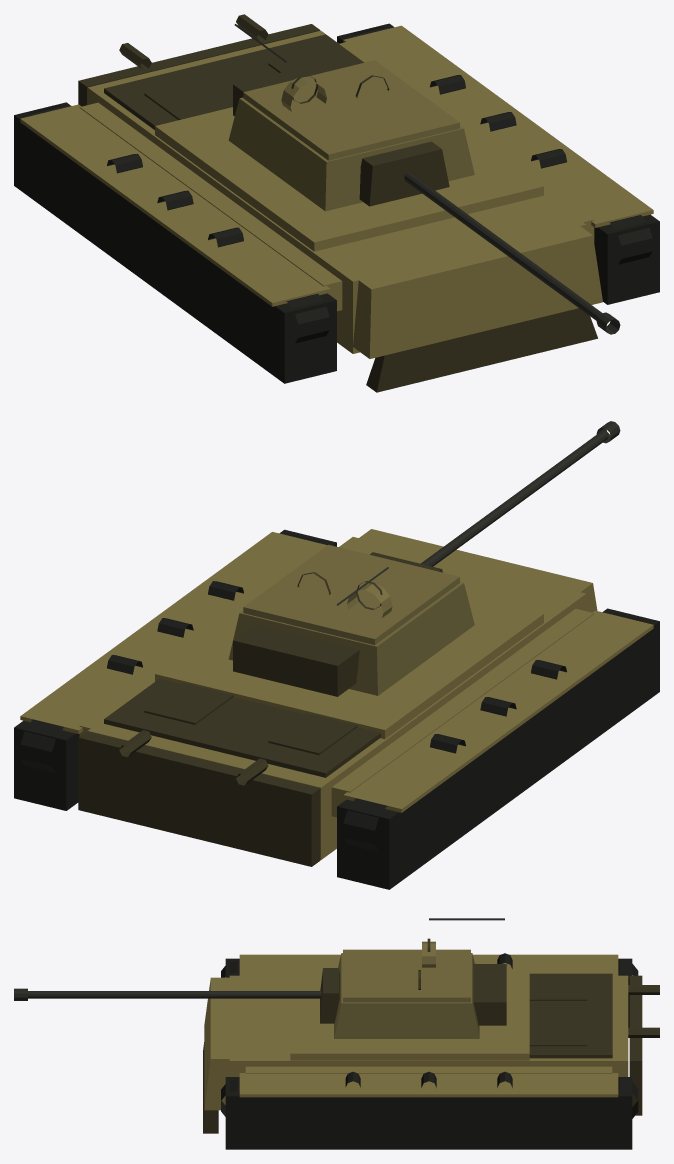
The model's file is tiger1.obj.
3 renders of one model, top to bottom at view 1: azimuth 30°, elevation 25°; view 2: azimuth 150°, elevation 25°; view 3: azimuth 270°, elevation 25°, orthographic. The views are drawn at different scales.
Parts seen in each view (by area): view 1: track_l, glacis, hull_deck, hull_lower, fender_l, fender_r, turret_roof, turret_base, lower_glacis, engine_deck, sponson_left, track_r (+10 smaller); view 2: track_l, rear_plate, hull_deck, fender_l, fender_r, turret_roof, hull_lower, engine_deck, turret_base, turret_rear, sponson_left, track_r (+7 smaller); view 3: track_r, hull_lower, hull_deck, fender_r, turret_roof, turret_base, engine_deck, fender_l, glacis, sponson_right, barrel, turret_rear (+8 smaller).
Part boxes in pixels (x1,y1,x2,y2): track_l: (14, 102, 336, 383); glacis: (353, 226, 602, 358); hull_deck: (155, 107, 543, 251); hull_lower: (87, 30, 586, 353); fender_l: (20, 104, 330, 306); fender_r: (343, 25, 653, 227); turret_roof: (243, 60, 459, 160); turret_base: (228, 97, 474, 211); lower_glacis: (366, 308, 597, 392); engine_deck: (104, 34, 363, 129); sponson_left: (79, 102, 342, 311); track_r: (337, 23, 659, 304); track_l: (337, 608, 659, 889); rear_plate: (78, 731, 320, 866); hull_deck: (155, 595, 543, 739); fender_l: (343, 610, 653, 812); fender_r: (20, 532, 327, 733); turret_roof: (243, 544, 459, 645); hull_lower: (87, 537, 586, 859); engine_deck: (104, 679, 380, 777); turret_base: (228, 582, 474, 695); turret_rear: (233, 624, 359, 696); sponson_left: (331, 608, 594, 817); track_r: (14, 529, 336, 810); track_r: (225, 1077, 632, 1149); hull_lower: (229, 975, 628, 1076); hull_deck: (290, 969, 529, 1060); fender_r: (239, 1073, 618, 1097); turret_roof: (343, 949, 470, 1002); turret_base: (334, 953, 479, 1038); engine_deck: (529, 973, 612, 1058); fender_l: (239, 954, 618, 975); glacis: (204, 977, 229, 1110); sponson_right: (245, 1066, 612, 1073); barrel: (28, 991, 321, 998); turret_rear: (473, 964, 506, 1025).
Bounding box in the file's own units: 5.23 × 2.72 × 10.21.
